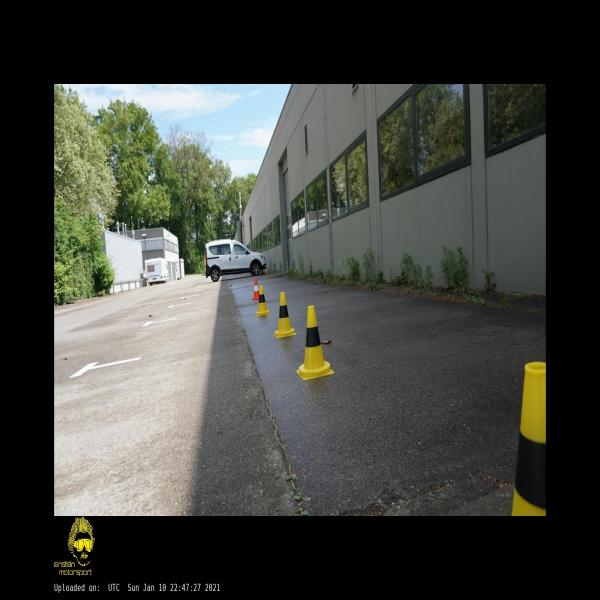orange_cone: (252, 278, 259, 300)
yellow_cone: (512, 362, 546, 515), (296, 306, 334, 380), (274, 292, 296, 338), (255, 285, 271, 316)
